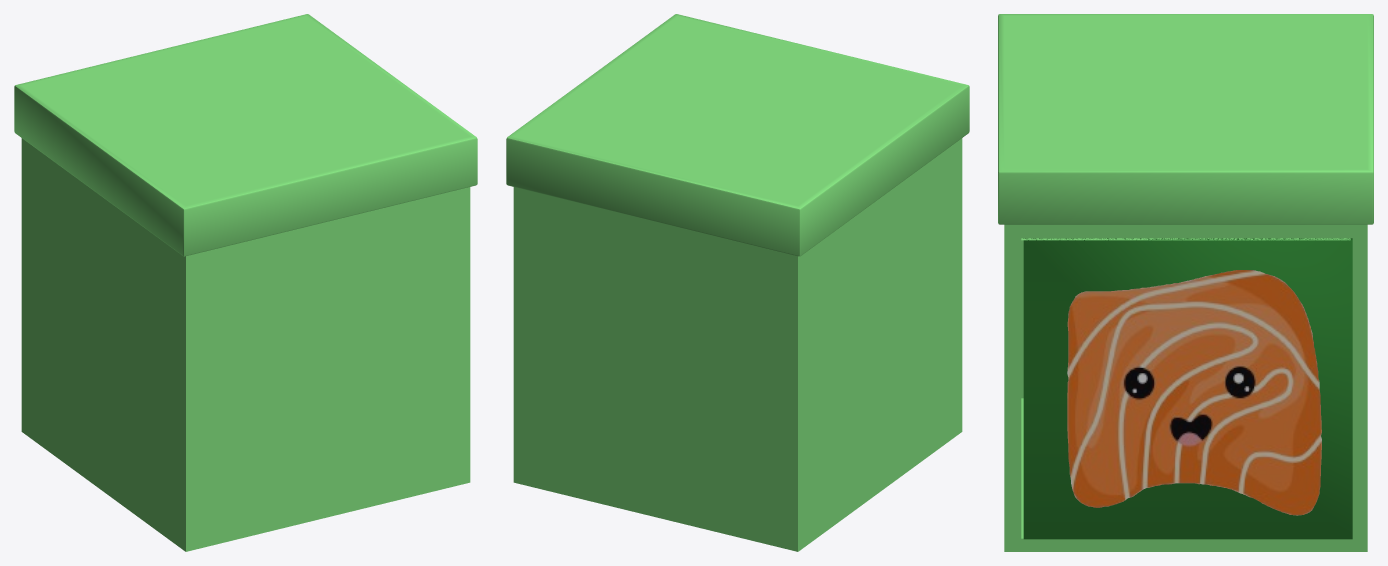
Rendered from Cajon de salmon 1.fbx.
3 views of the same model, side by side, from view 1: azimuth 30°, elevation 25°; view 2: azimuth 150°, elevation 25°; view 3: azimuth 270°, elevation 25° (orthographic). The views are drawn at different scales.
Visible parts, largest first — view 1: Mueble.003; view 2: Mueble.003; view 3: Mueble.003, rice-removebg-preview.003, Tapa.003.
Boxes of the visible parts, <box> form: Mueble.003: <box>14,14,477,551</box>; Mueble.003: <box>506,14,969,551</box>; Mueble.003: <box>998,14,1373,551</box>; rice-removebg-preview.003: <box>1067,270,1321,515</box>; Tapa.003: <box>1023,238,1352,539</box>.
Bounding box in the file's own units: 207 × 232 × 207.
